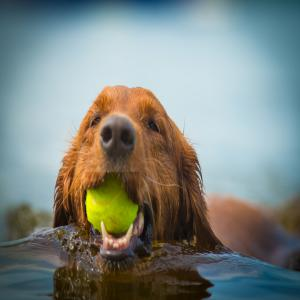TennisBall: (86, 174, 141, 238)
